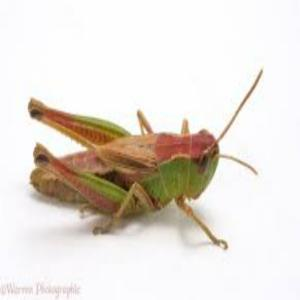locust: (27, 76, 263, 240)
